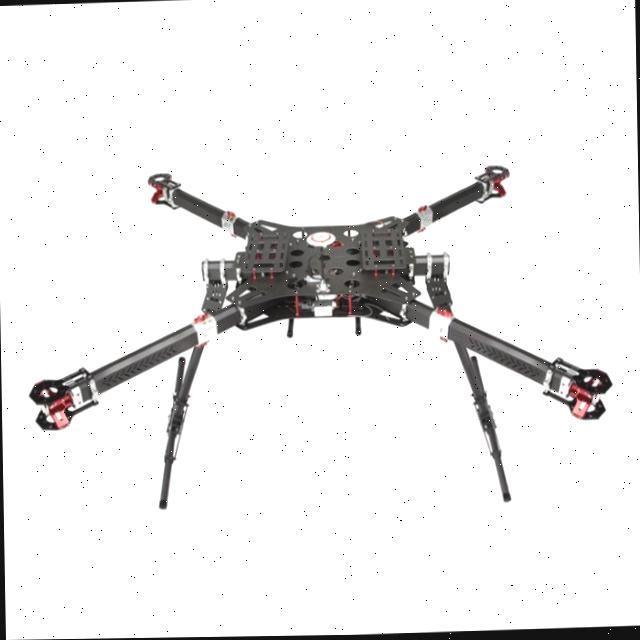drone: (0, 10, 640, 640)
